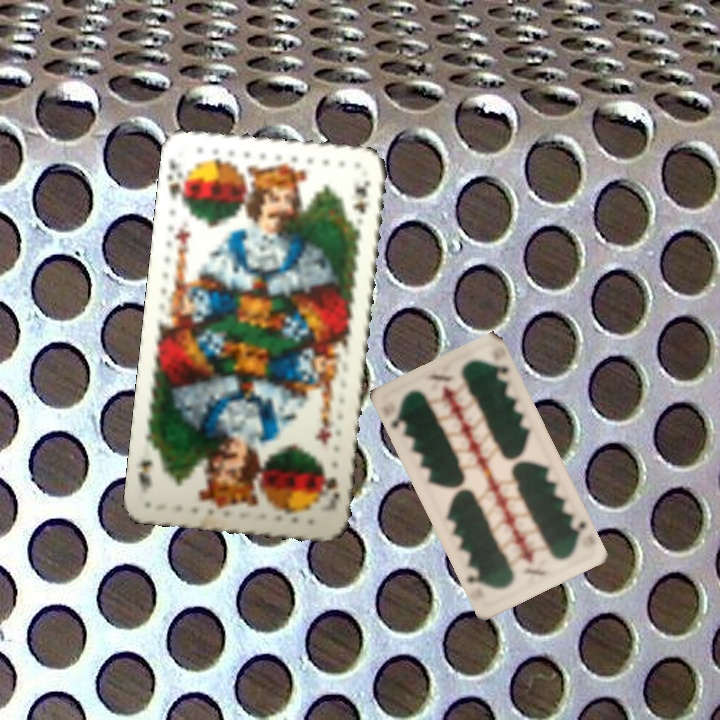G10: (386, 406, 409, 435), (567, 516, 589, 541)
SK: (164, 155, 192, 209), (317, 462, 343, 509)
